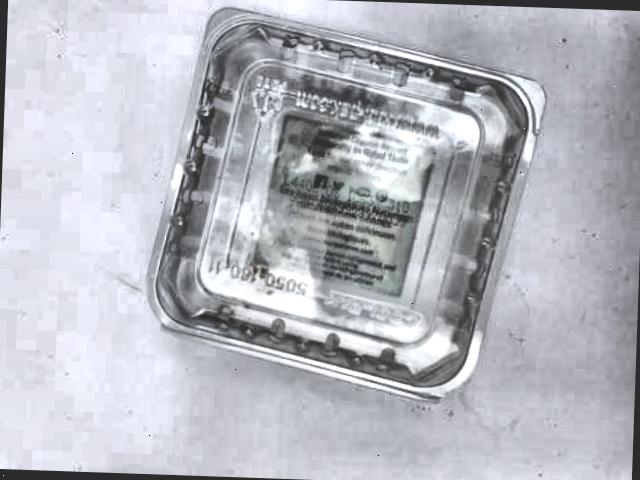Plastic: (127, 14, 559, 411)
